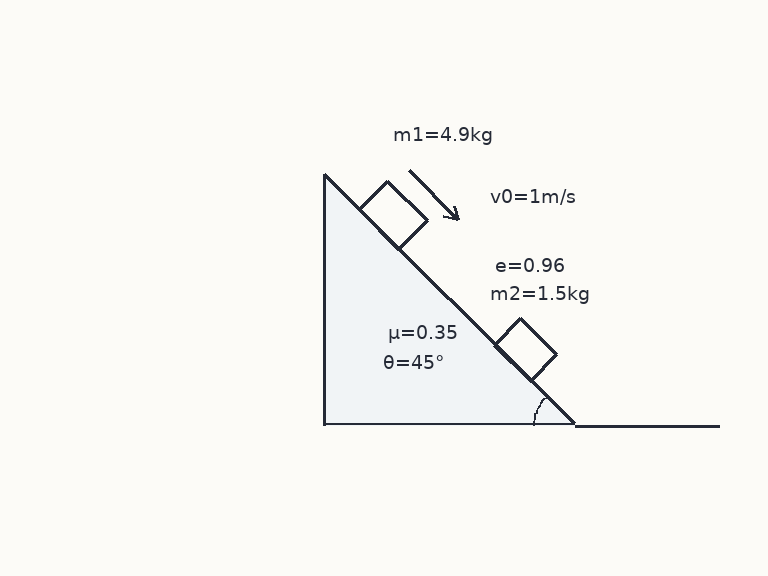block: (357, 179, 429, 251), (492, 316, 558, 383)
ramp: (322, 173, 576, 427)
